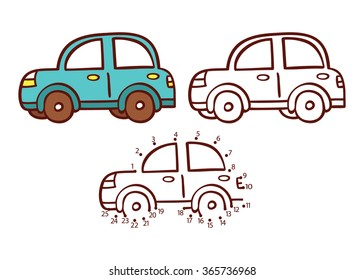car: (187, 31, 348, 125), (17, 31, 178, 124)
